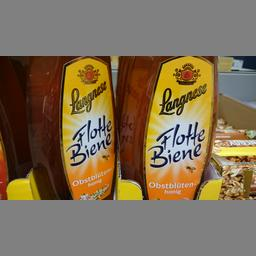honey: (120, 55, 219, 198), (24, 54, 115, 199)
